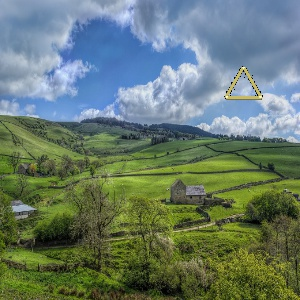triangle: (218, 64, 266, 102)
